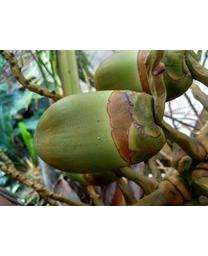coconut: (31, 89, 166, 173)
